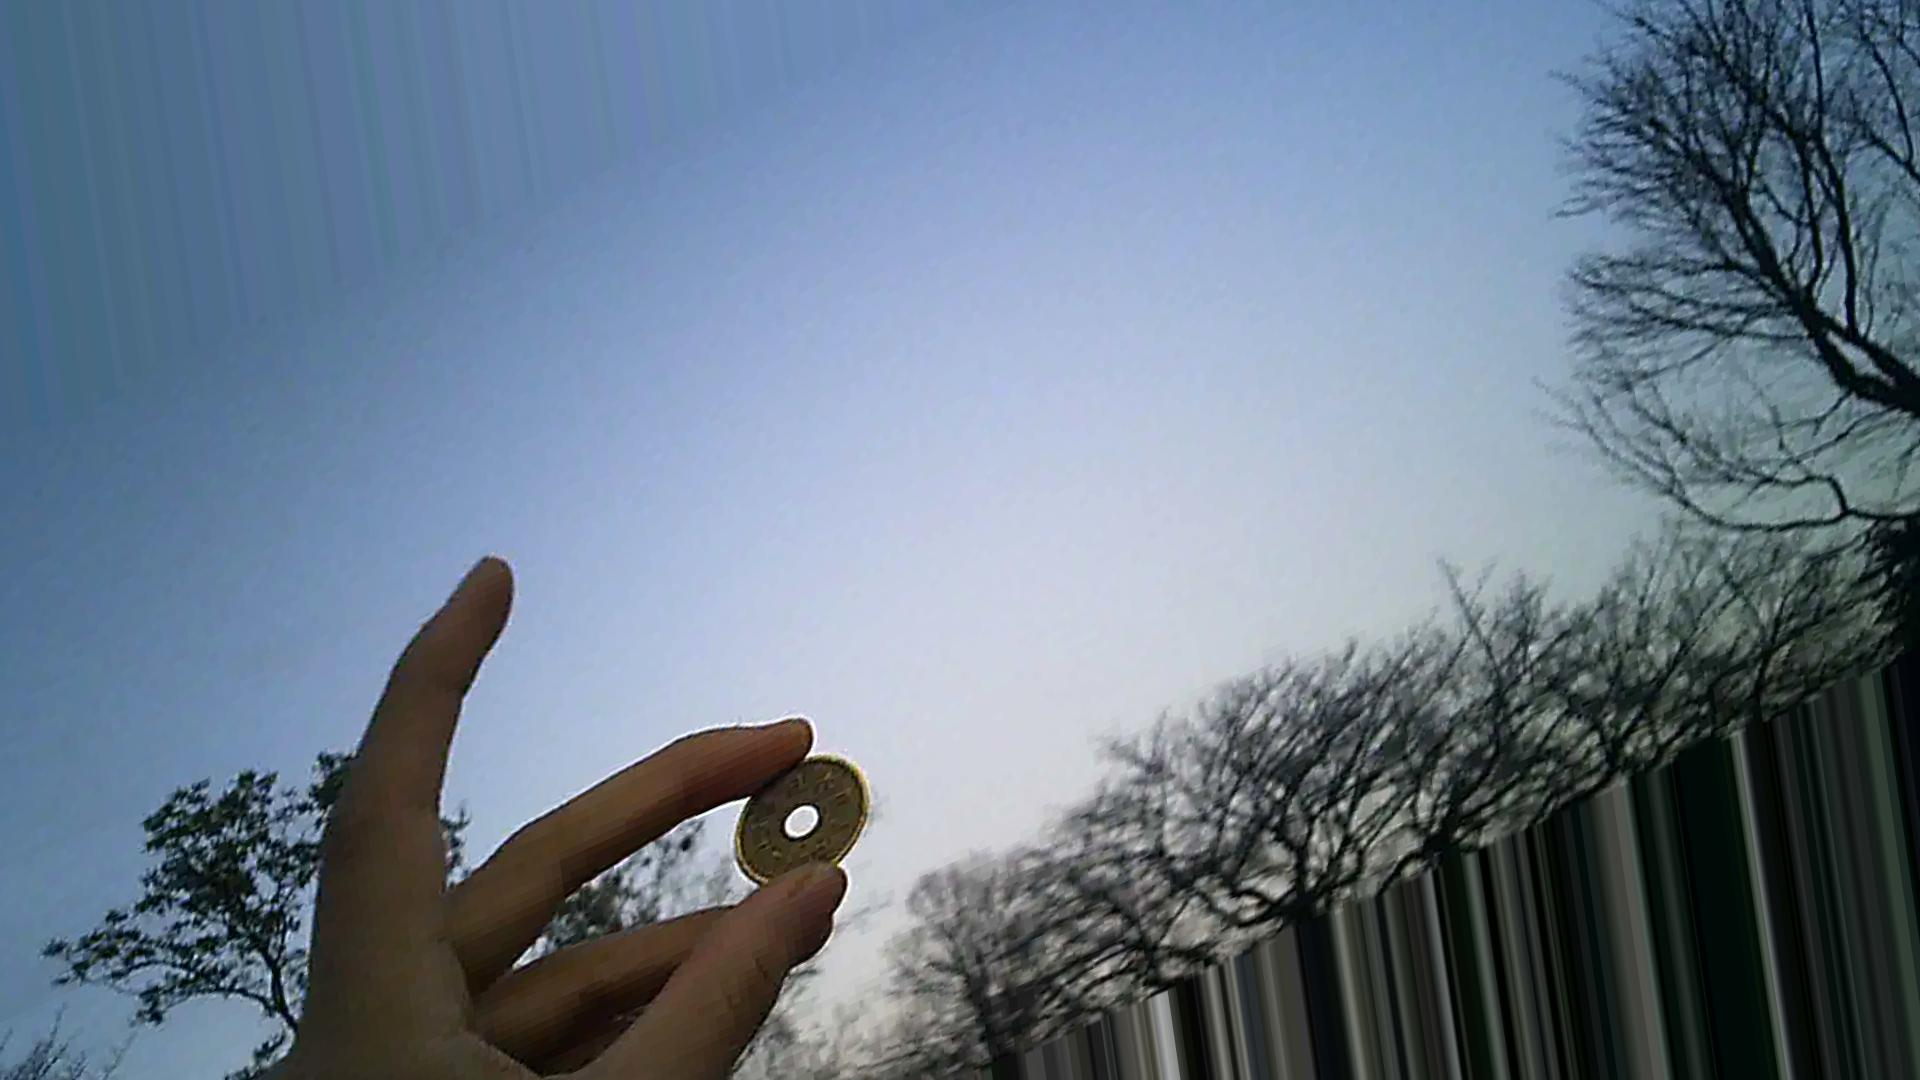5 Yen: (738, 731, 887, 916)
